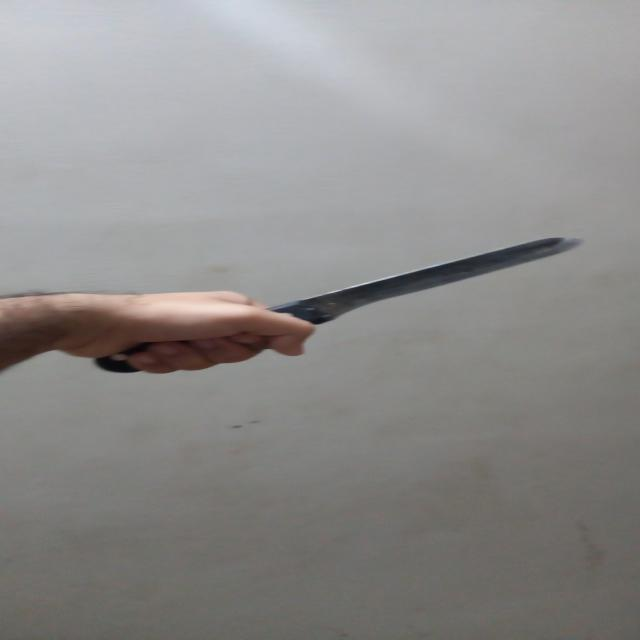weapon: (95, 235, 593, 376)
